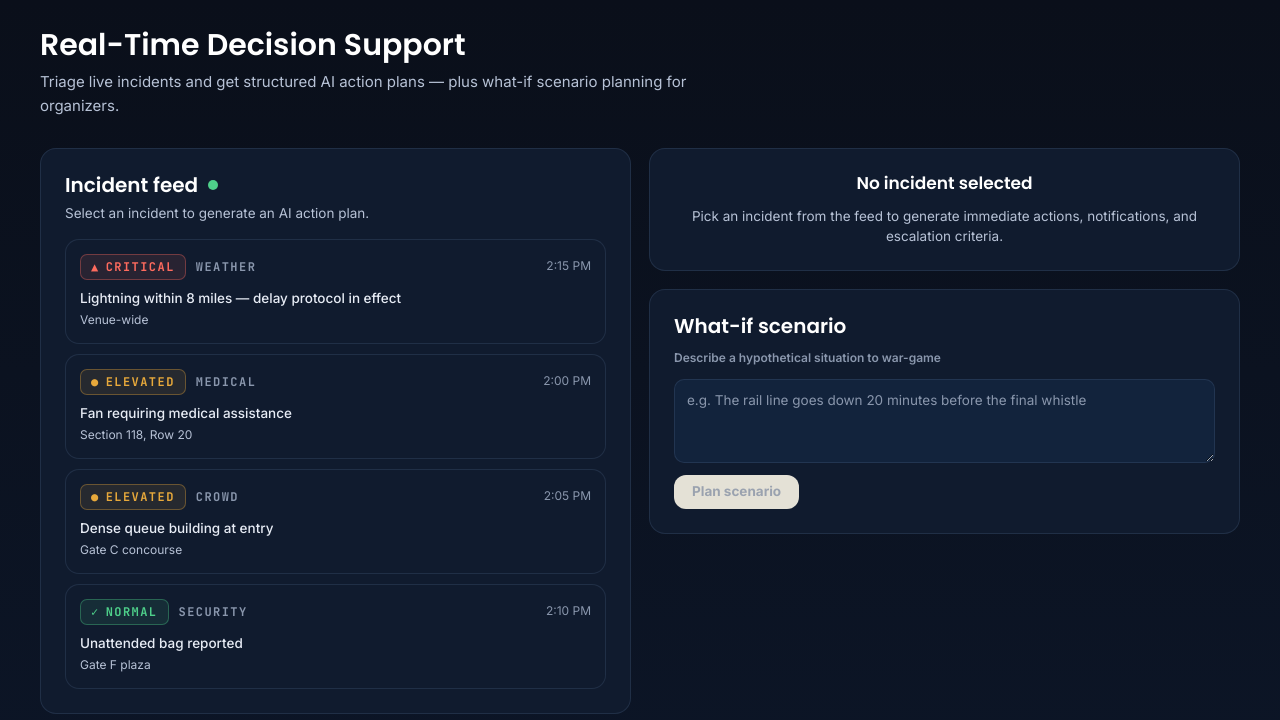
Scenario: RealTimeDecisionSupportScreen › shows a designed error state with retry when the plan fails
Click the button "Dense queue building at entry".
click(133, 497)  # box [65, 469, 606, 574]
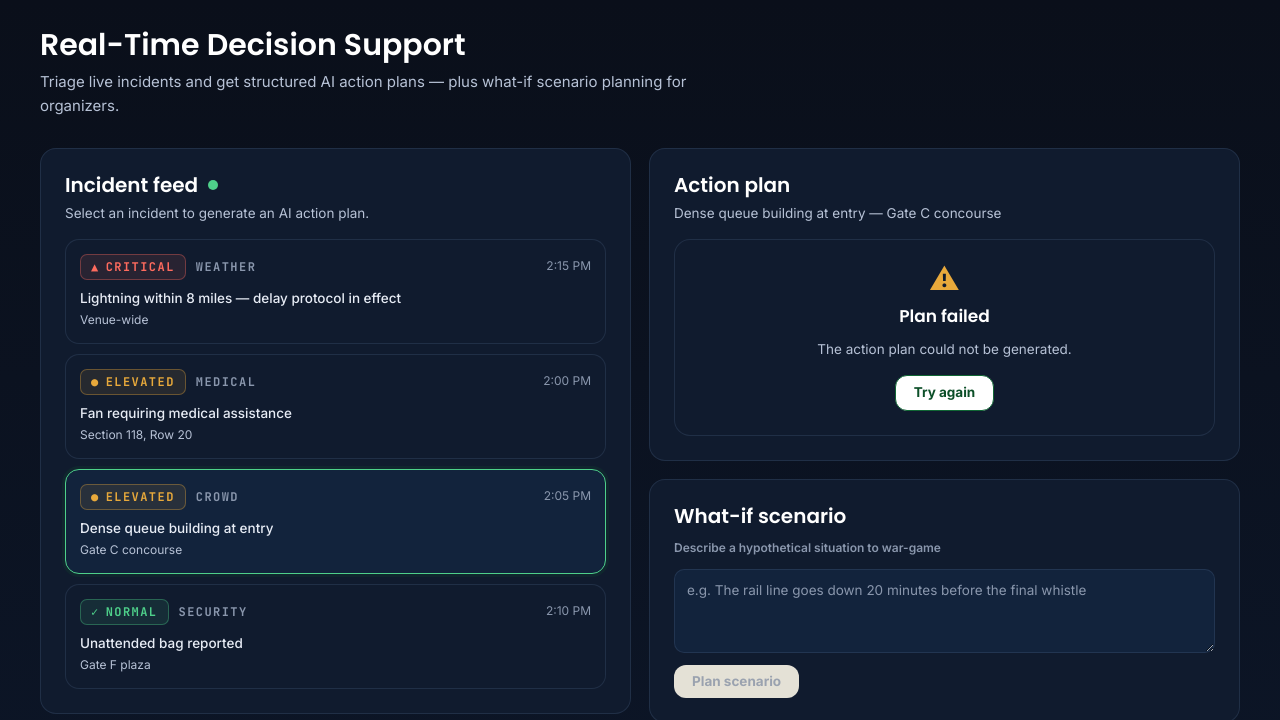
Expected: the message shows "could not be generated", [817, 341, 1072, 357]
Click the button "Try again".
click(944, 393)  # box [895, 375, 994, 411]
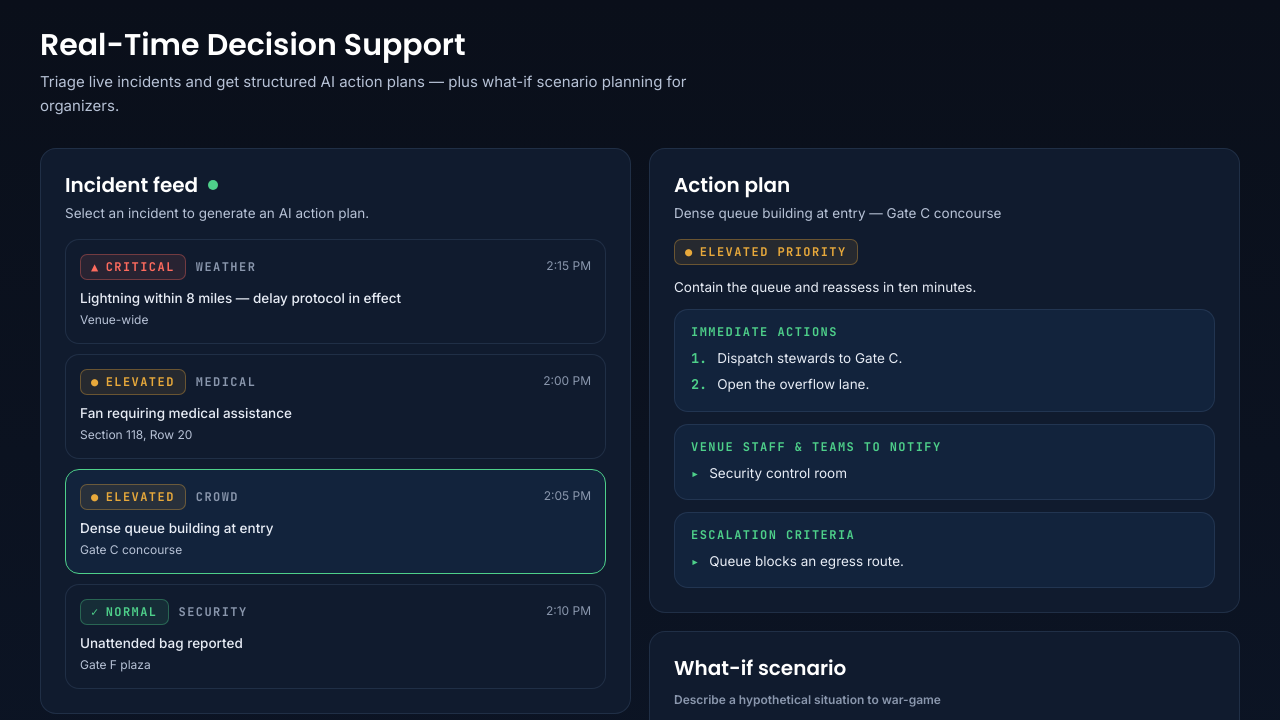
Expected: the text "Contain the queue and reassess in ten minutes." is shown, [674, 279, 976, 295]
